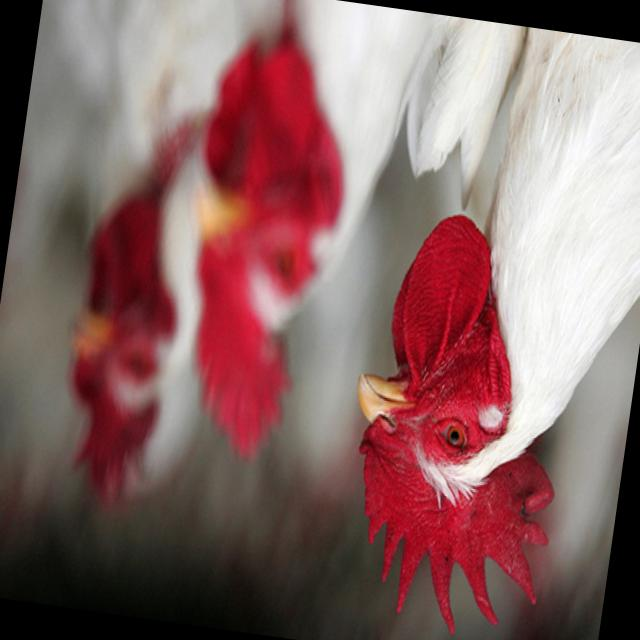Healthy: (324, 10, 640, 640)
